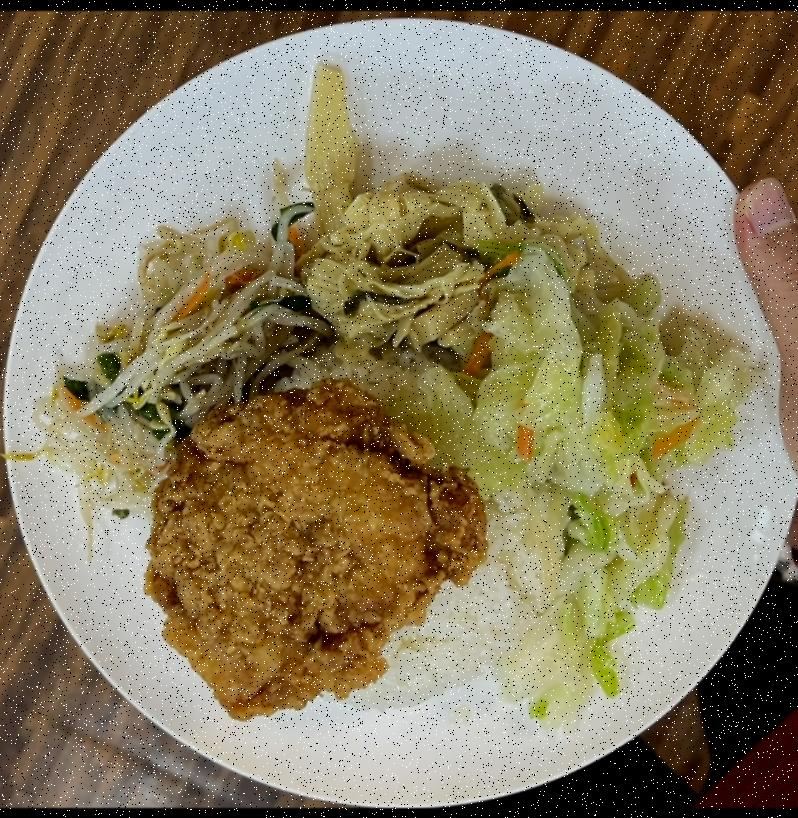big fried chicken leg: (0, 24, 798, 808)
big herbal chicken leg: (339, 497, 520, 716)
braised fish fillet: (475, 255, 757, 714), (30, 218, 308, 492), (300, 57, 522, 356)
braised pork: (144, 387, 480, 726)
